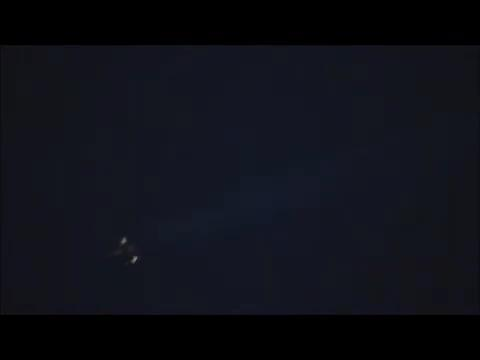Plane: (87, 224, 163, 274)
